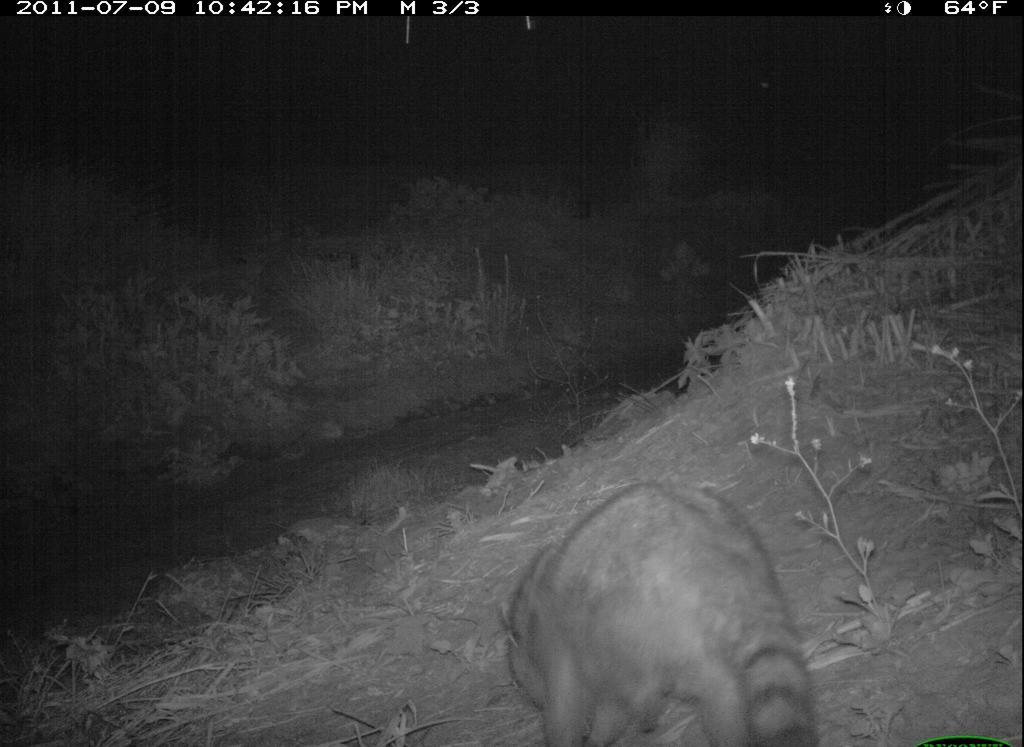raccoon: (497, 475, 836, 745)
